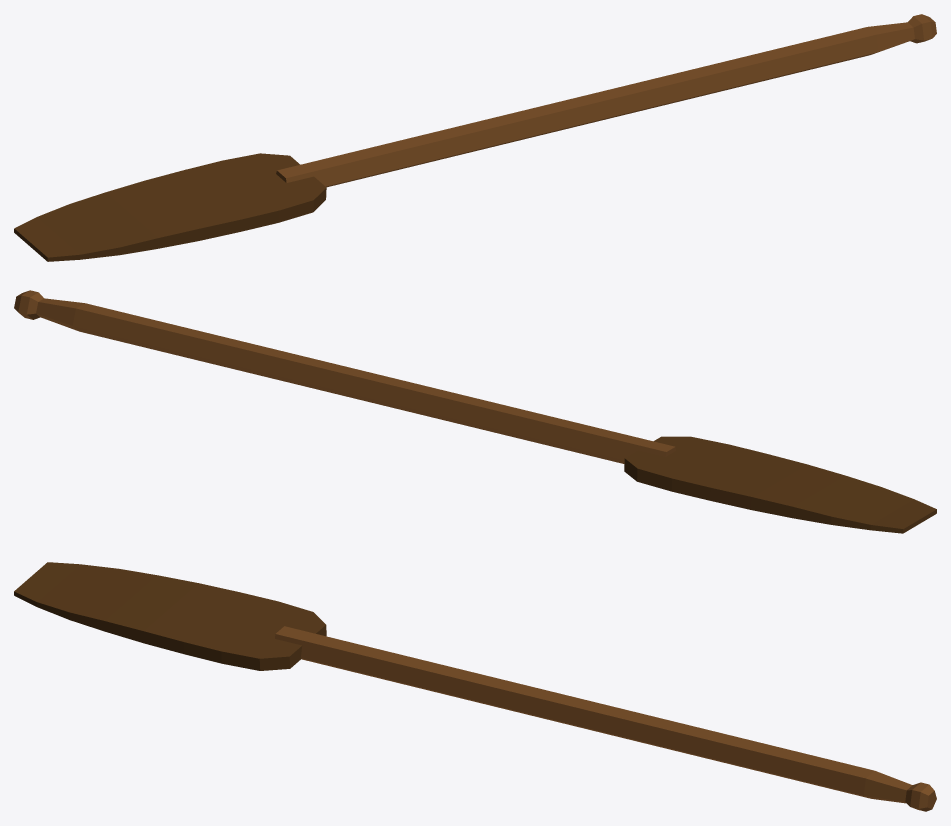
The model's file is F_Oar_A.fbx.
3 views of the same model, one above another, from view 1: azimuth 30°, elevation 25°; view 2: azimuth 150°, elevation 25°; view 3: azimuth 330°, elevation 25° (orthographic).
Parts seen in each view (by area): view 1: F_Oar_A; view 2: F_Oar_A; view 3: F_Oar_A.
Boxes of the visible parts, box(x1,y1,x2,y2) form: F_Oar_A: box(14, 14, 936, 261); F_Oar_A: box(14, 290, 936, 533); F_Oar_A: box(14, 562, 936, 811).
Size of the model in its own units: 391 by 10.85 by 43.5.
